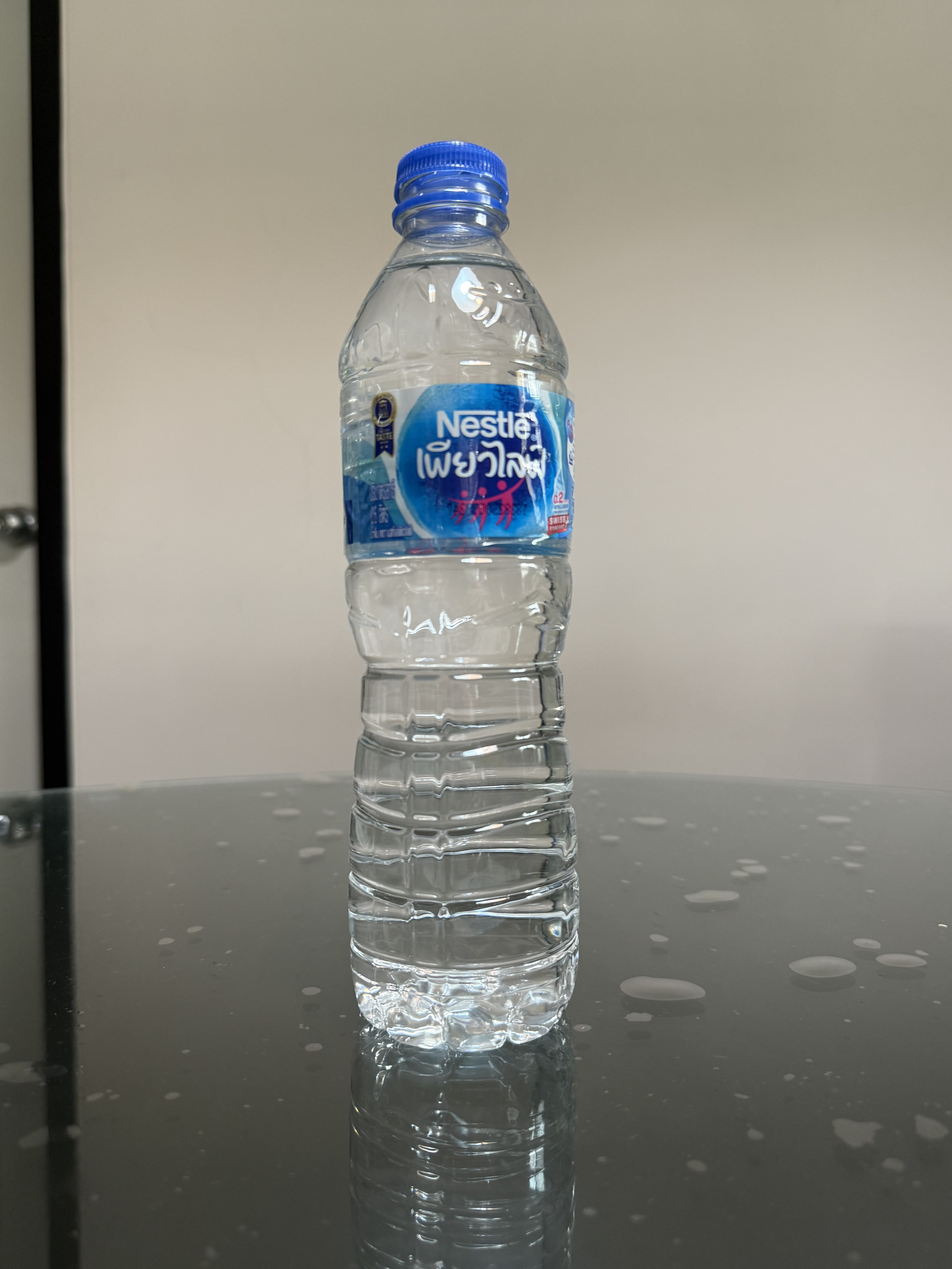half_cap: (389, 136, 511, 235)
